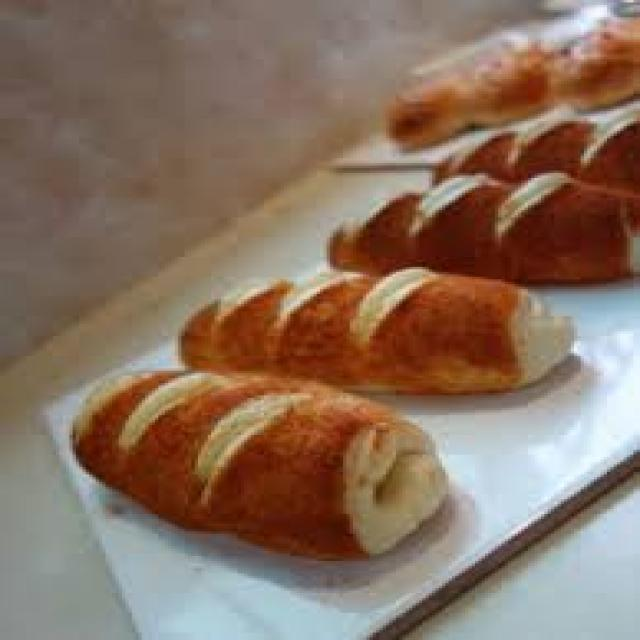food_waste: (73, 17, 637, 556)
